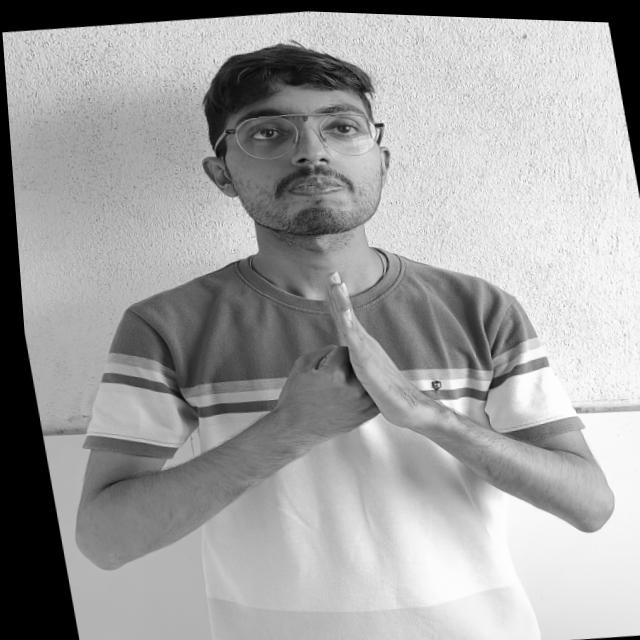Well Done: (185, 233, 539, 524)
